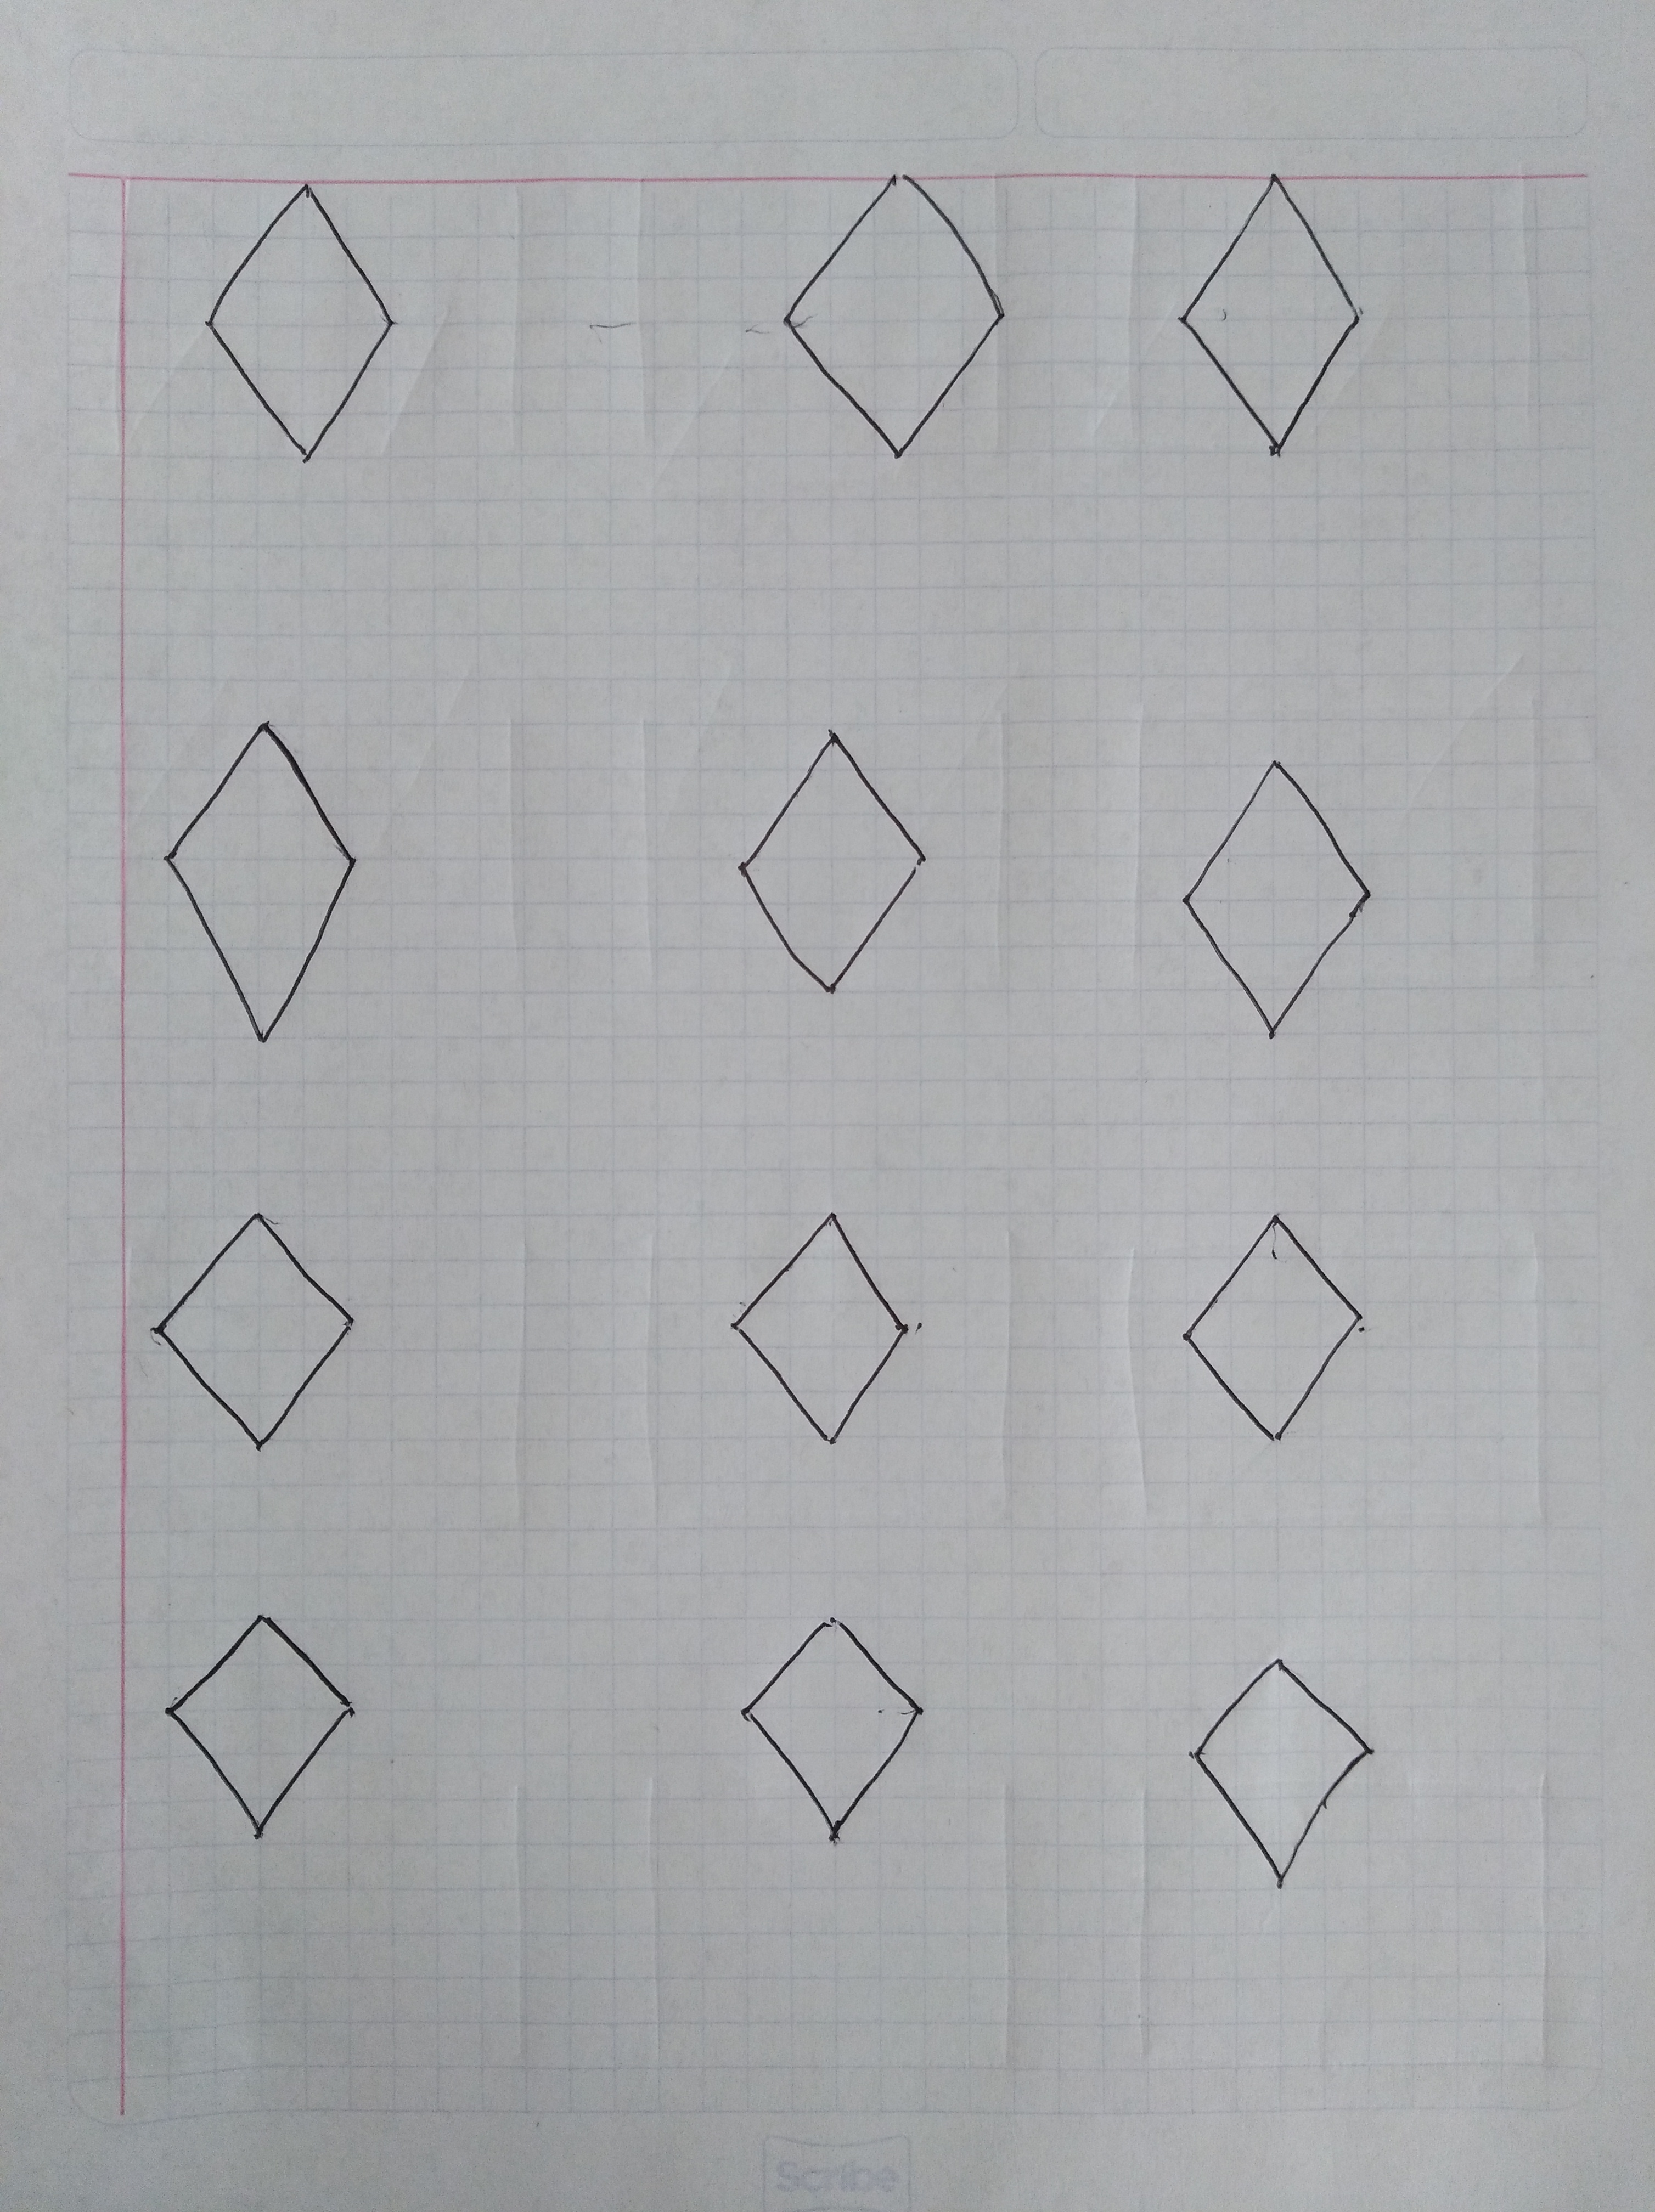decision: (130, 709, 429, 1076), (760, 158, 1033, 473), (170, 165, 440, 480), (118, 1180, 393, 1470), (709, 712, 967, 1018), (1158, 738, 1398, 1056), (1163, 151, 1387, 483), (716, 1588, 968, 1871), (141, 1592, 398, 1863), (1147, 1194, 1394, 1472), (1158, 1633, 1405, 1906), (711, 1195, 946, 1461)
